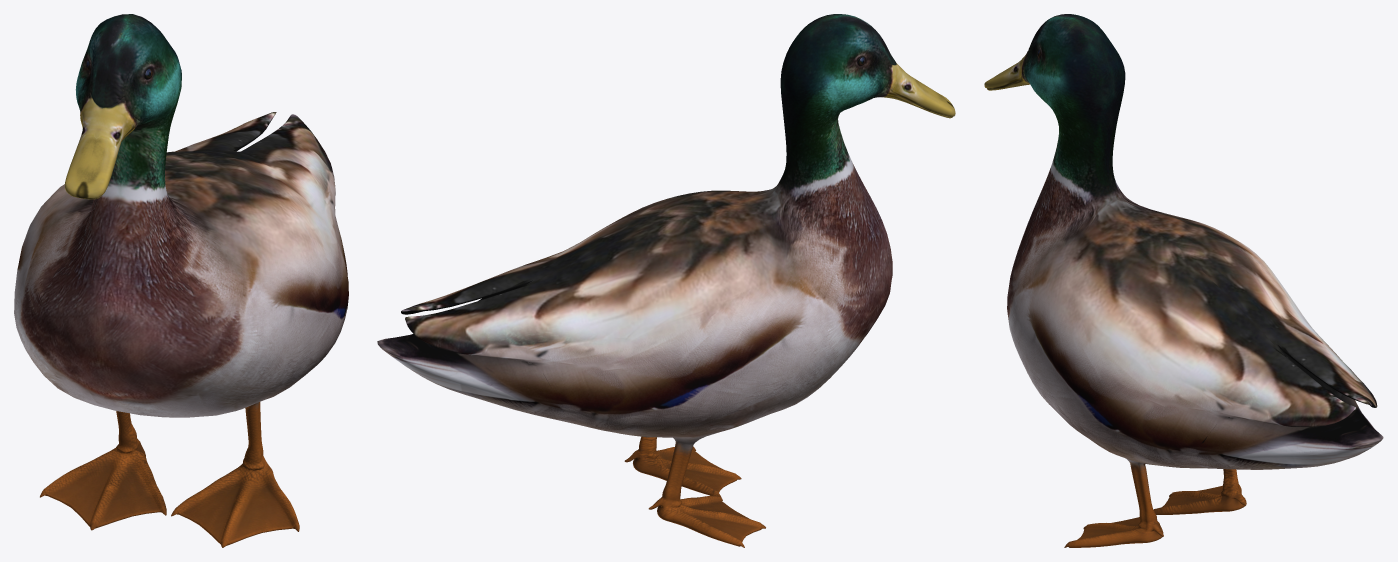
The model's file is Mallard.glb.
3 views of the same model, side by side, from view 1: azimuth 30°, elevation 25°; view 2: azimuth 150°, elevation 25°; view 3: azimuth 270°, elevation 25° (orthographic). The views are drawn at different scales.
Parts seen in each view (by area): view 1: 12248_Bird_v1_L2; view 2: 12248_Bird_v1_L2; view 3: 12248_Bird_v1_L2.
Boxes of the visible parts, x1,y1,x2,y2 form: 12248_Bird_v1_L2: (14,14,348,547); 12248_Bird_v1_L2: (377,14,955,547); 12248_Bird_v1_L2: (984,14,1383,547).
Size of the model in its own units: 1.41 by 1.67 by 1.29.
Materials: 1 (1 with a texture image).
